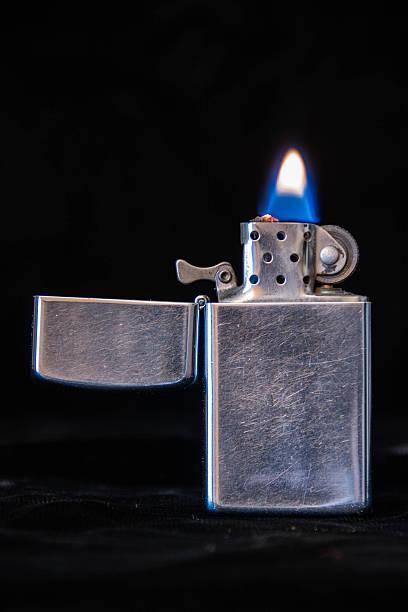Fire: (258, 140, 317, 224)
